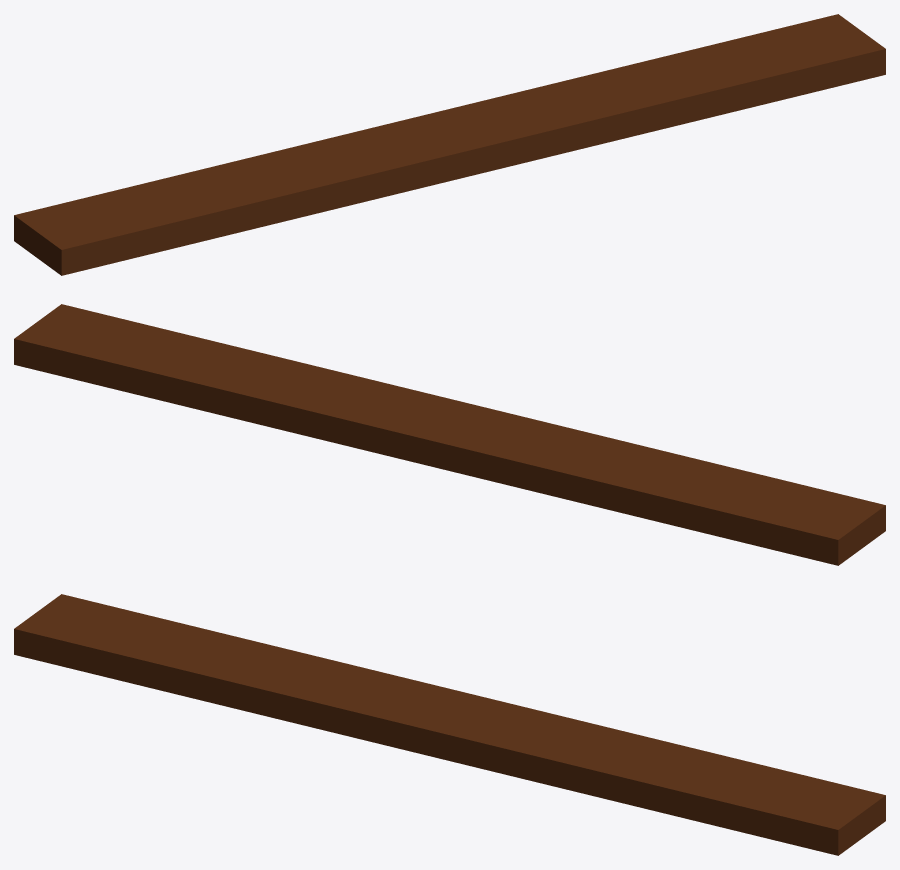
File: gutter2.glb
3 renders of one model, top to bottom at view 1: azimuth 30°, elevation 25°; view 2: azimuth 150°, elevation 25°; view 3: azimuth 330°, elevation 25°, orthographic.
Visible parts, largest first — view 1: Cube; view 2: Cube; view 3: Cube.
Boxes of the visible parts, box(x1,y1,x2,y2) form: Cube: box(14, 14, 885, 275); Cube: box(14, 304, 885, 565); Cube: box(14, 594, 885, 855).
Bounding box in the file's own units: 20 × 0.6 × 2.
